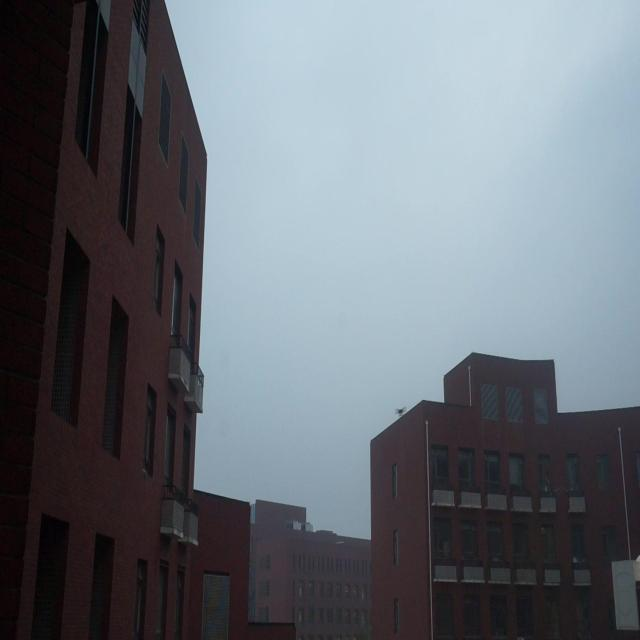drone: (392, 405, 408, 417)
